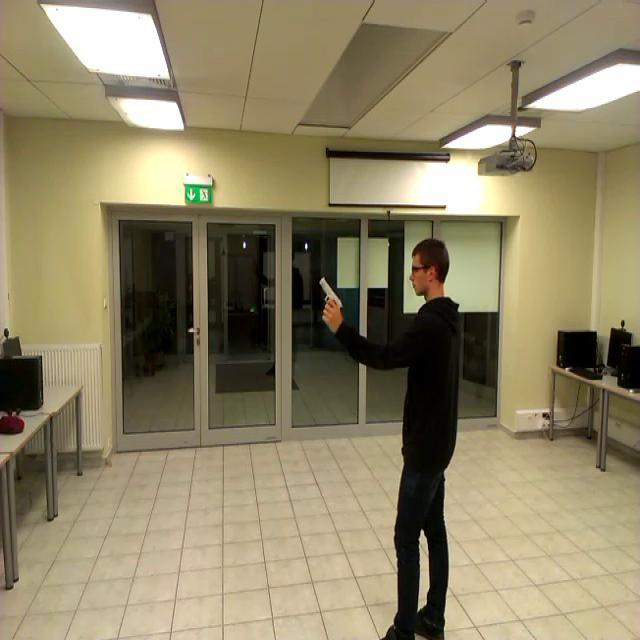Gun: (321, 276, 344, 320)
